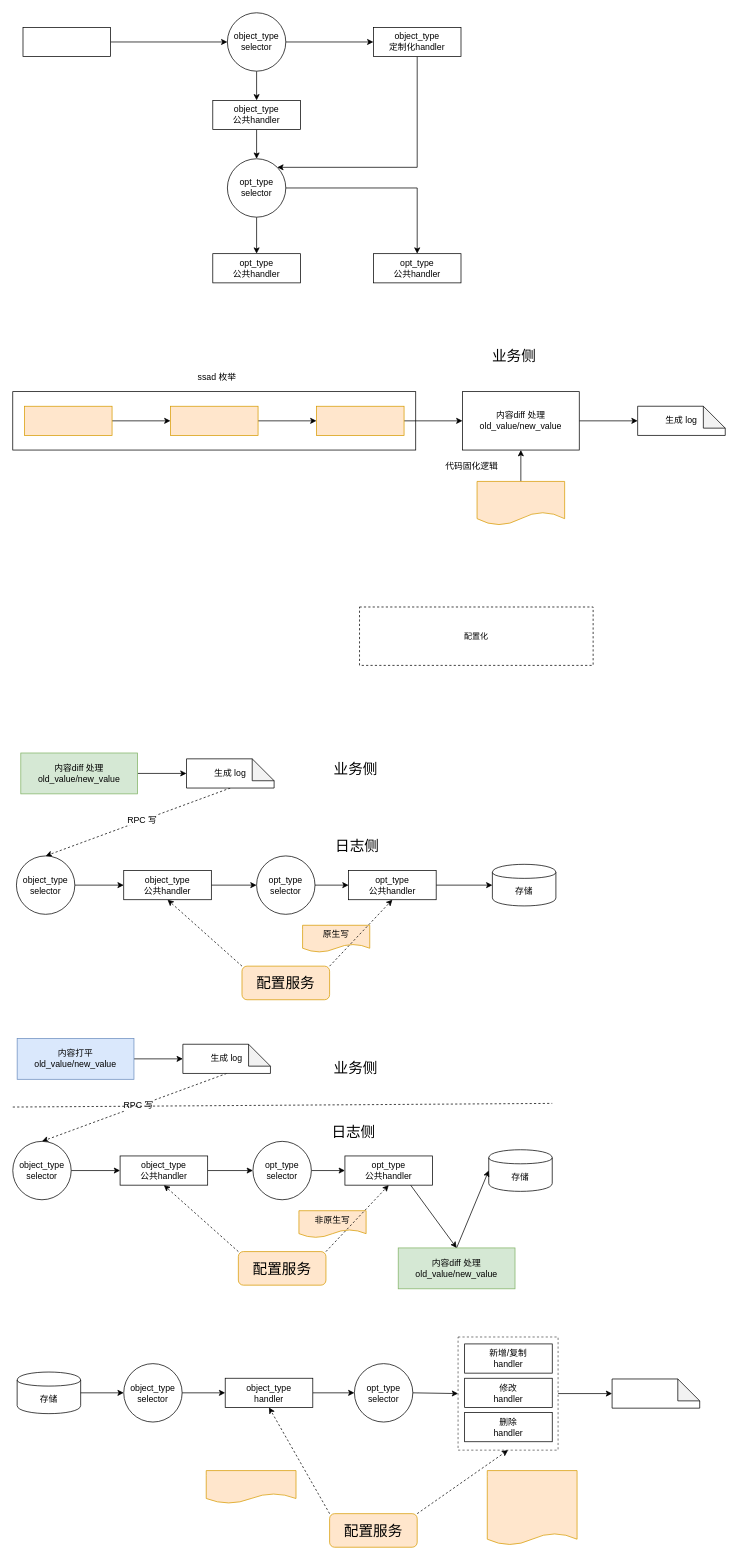
This 738x1560 diagram has some shape labels left out. Each missing label, with the box of its shape:
object_type 转义 配置: (205, 1470, 296, 1503)
opt_type system_origin 兜底功能key 转义配置: (487, 1470, 577, 1545)
参与diff字段 排除diff字段: (476, 481, 565, 525)
可读 log: (611, 1378, 700, 1408)
添加object_type: (170, 406, 258, 435)
添加opt_type: (316, 406, 404, 435)
添加system_origin: (24, 406, 112, 435)
生成log: (22, 27, 111, 57)
